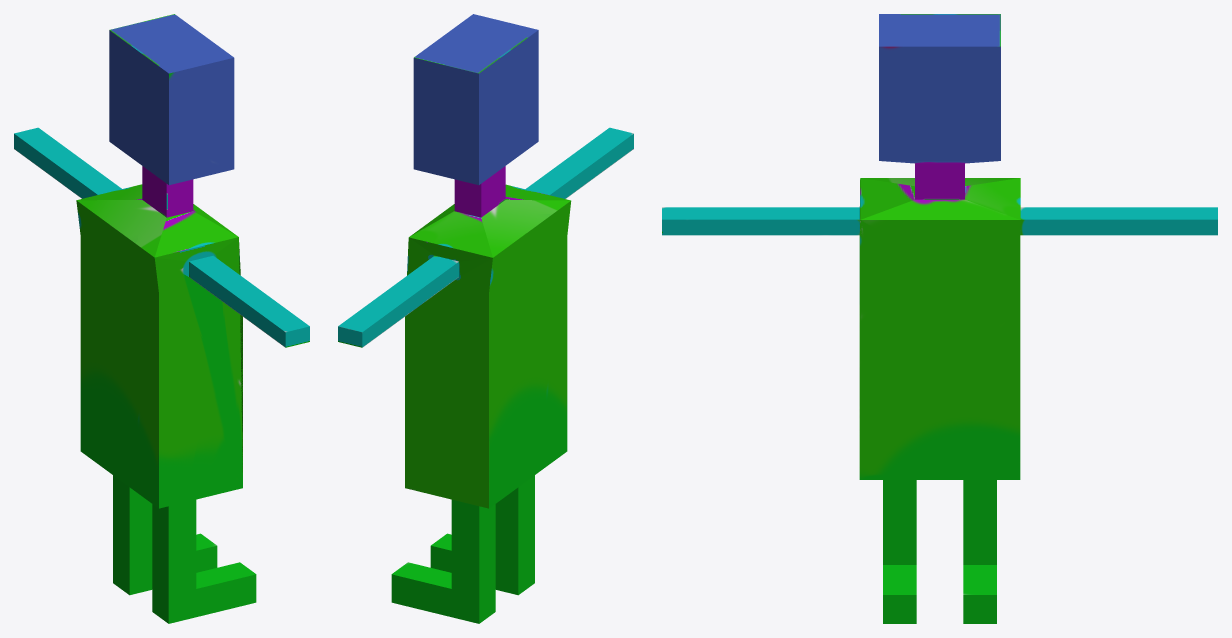
The model's file is segundo_modelo_con_texturas.glb.
3 renders of one model, left to right at view 1: azimuth 30°, elevation 25°; view 2: azimuth 150°, elevation 25°; view 3: azimuth 270°, elevation 25°, orthographic. The views are drawn at different scales.
Parts seen in each view (by area): view 1: Cube; view 2: Cube; view 3: Cube.
Part boxes in pixels (<box>): Cube: <box>14,14,309,623</box>; Cube: <box>338,14,633,623</box>; Cube: <box>662,14,1217,623</box>.
Bounding box in the file's own units: 1.66 × 7.78 × 6.93.
1 material, 1 textured.
